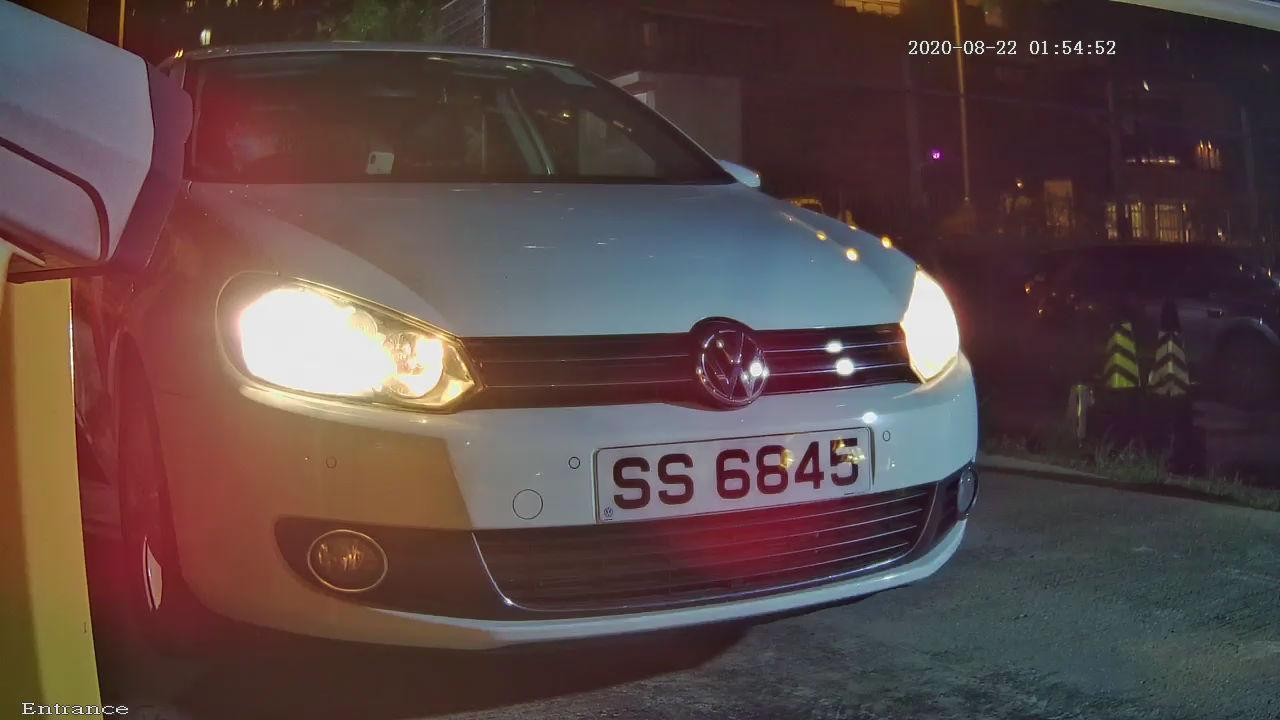Car: (12, 23, 1115, 701)
License Plate: (589, 418, 892, 528)
